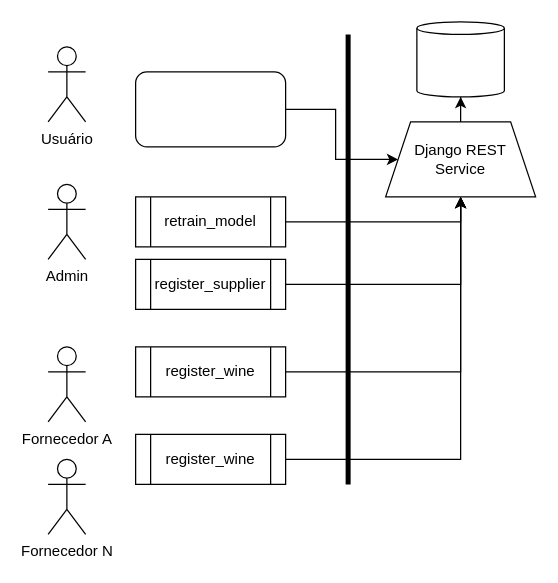
The diagram is 558 pixels wide and 583 high, and some of its shapes have lost their labels. Here are the shapes that lost their labels. From the top down, the centre of each, then its label:
At point 460,59: "Base de Operação".
At point 210,109: "Portal WEB".
